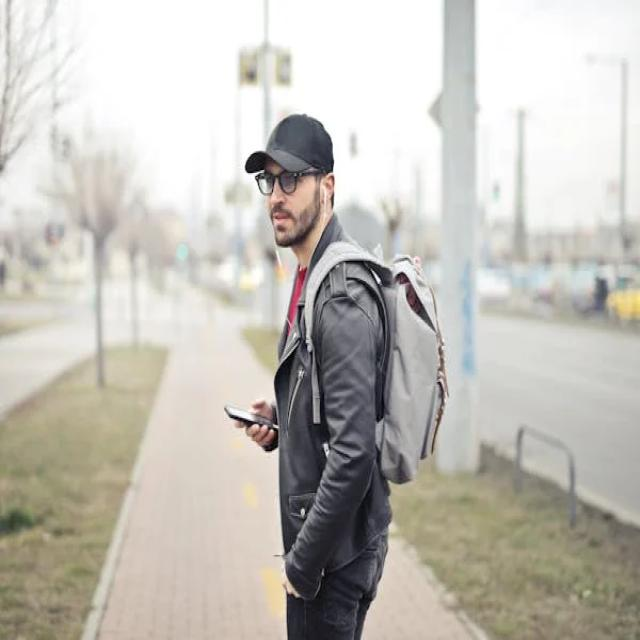Real human 2: (200, 92, 465, 640)
